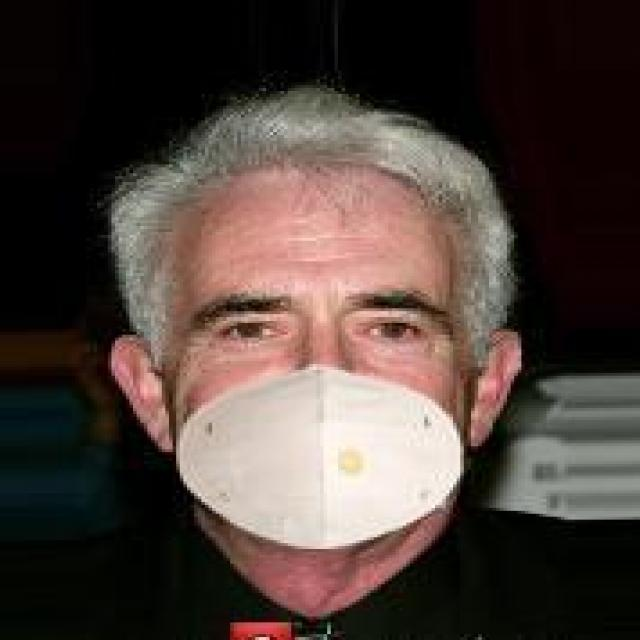mask: (69, 118, 546, 570)
